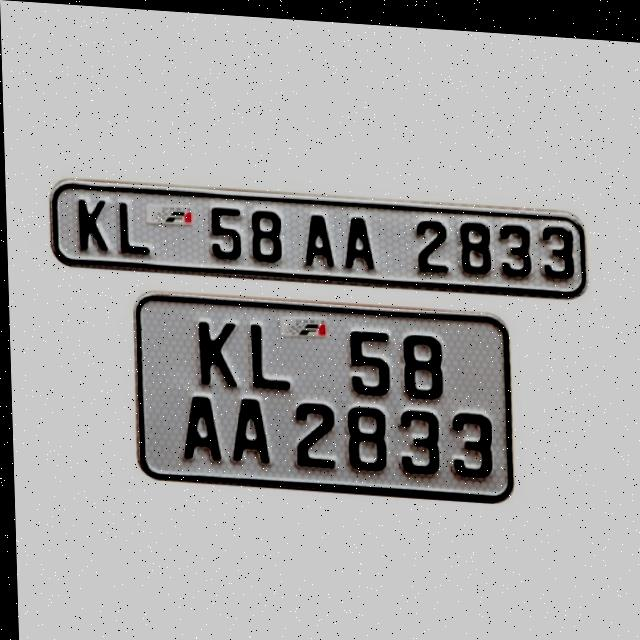plate: (126, 287, 515, 499), (43, 171, 590, 297)
